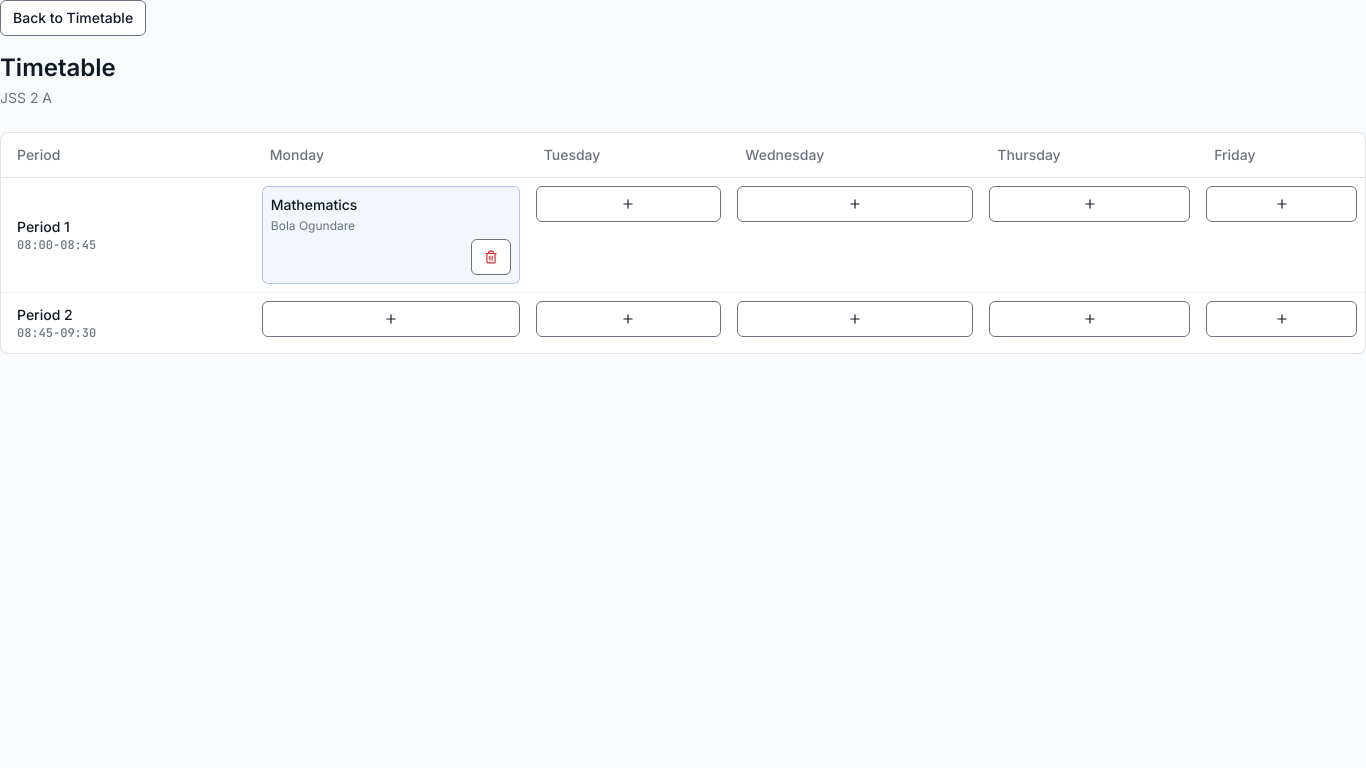
Test: TimetableBuilderPage › clicking a filled cell opens the dialog prefilled with its current subject
Click the text "Mathematics".
click(314, 204)  # box [271,196,357,213]
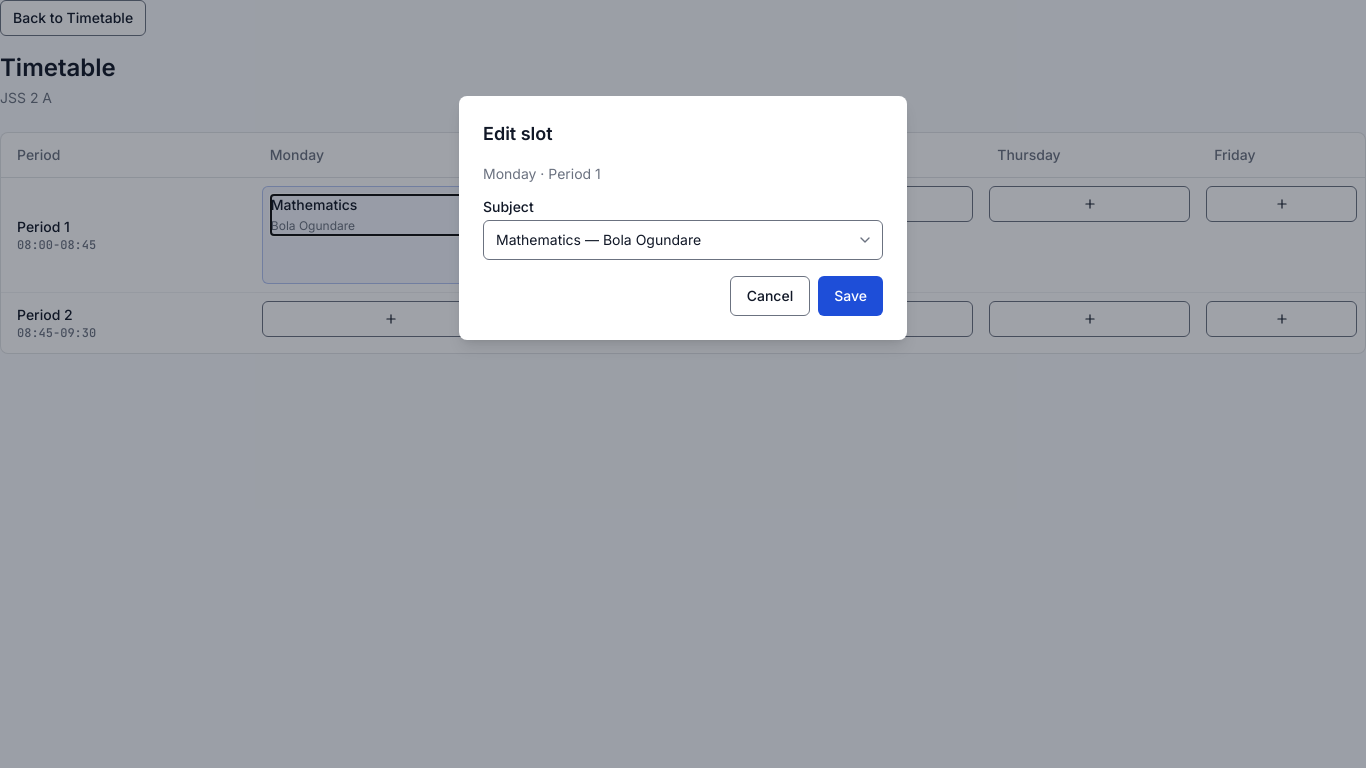
Now the dropdown labelled "Subject" shows "Mathematics — Bola Ogundare", box [483,220,883,260]
Now the button "Save" is shown, box [818,276,883,316]
